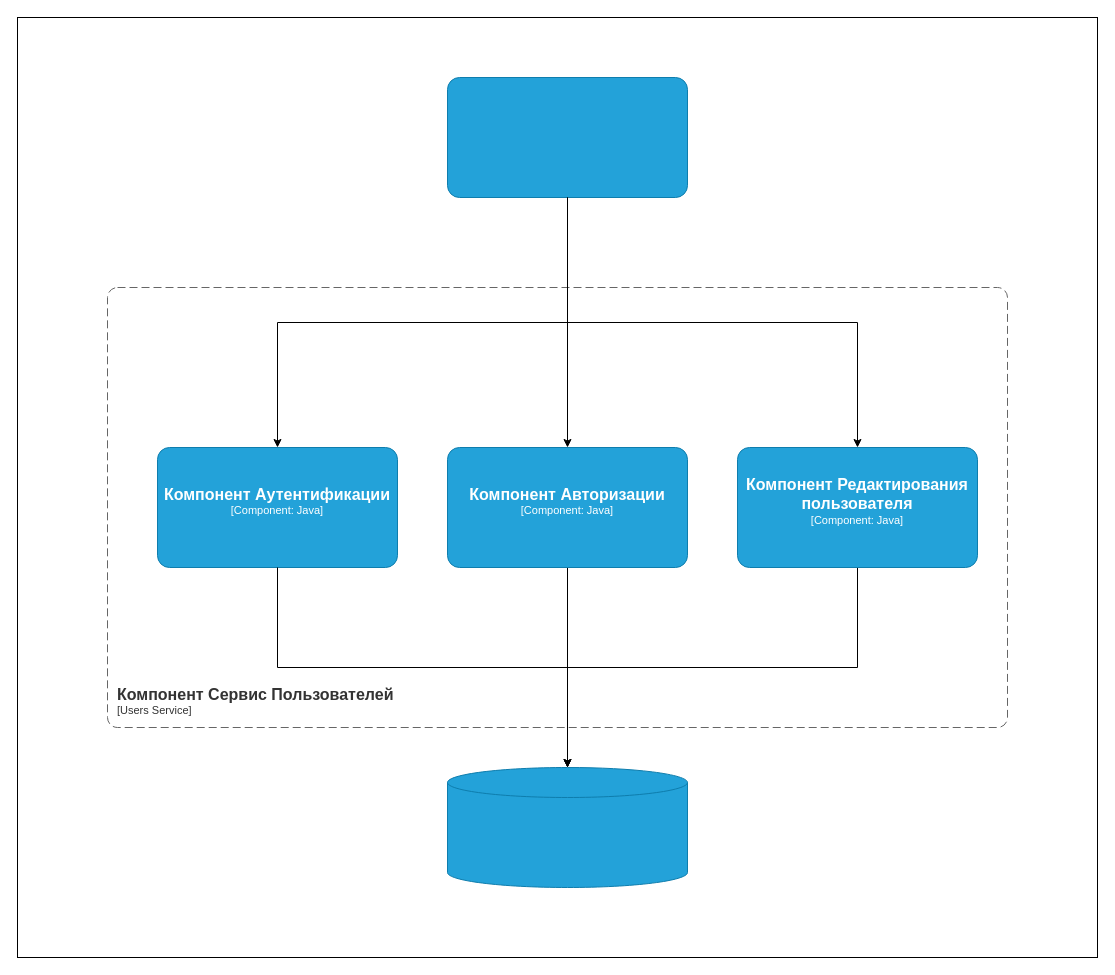
This 1115x975 diagram has some shape labels left out. The centre of each missing label's shape, as x and y in pixels:
"Api Gateway [Container: Kong] Аутентификация, авторизация, маршрутизация" goes at (x=567, y=137).
"БД Пользователей [Container: PostgreSQL]" goes at (x=567, y=827).
